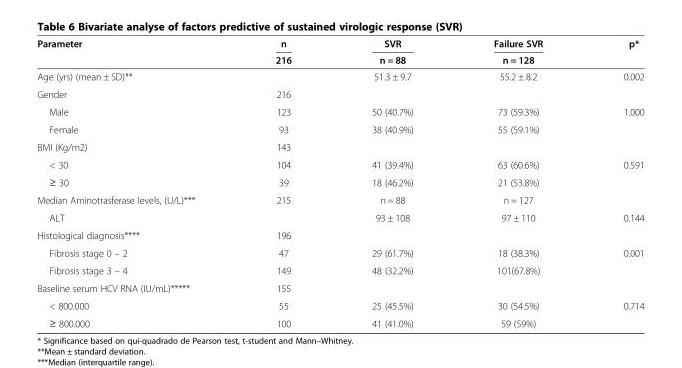table: (36, 37, 643, 328)
table column: (36, 37, 234, 328), (452, 37, 582, 328), (331, 37, 452, 328), (234, 37, 331, 328), (582, 37, 643, 328)
table column header: (36, 37, 643, 67)
table row: (36, 67, 643, 85), (36, 102, 643, 120), (36, 137, 643, 155), (36, 155, 643, 173), (36, 190, 643, 208), (36, 208, 643, 226), (36, 243, 643, 261), (36, 261, 643, 279), (36, 296, 643, 314), (36, 85, 643, 102), (36, 120, 643, 137), (36, 173, 643, 190), (36, 226, 643, 243), (36, 279, 643, 296), (36, 51, 643, 67), (36, 37, 643, 51), (36, 314, 643, 328)
table spanning cell: (36, 37, 234, 67), (452, 37, 582, 67), (331, 37, 452, 67), (234, 37, 331, 67), (582, 37, 643, 67)
